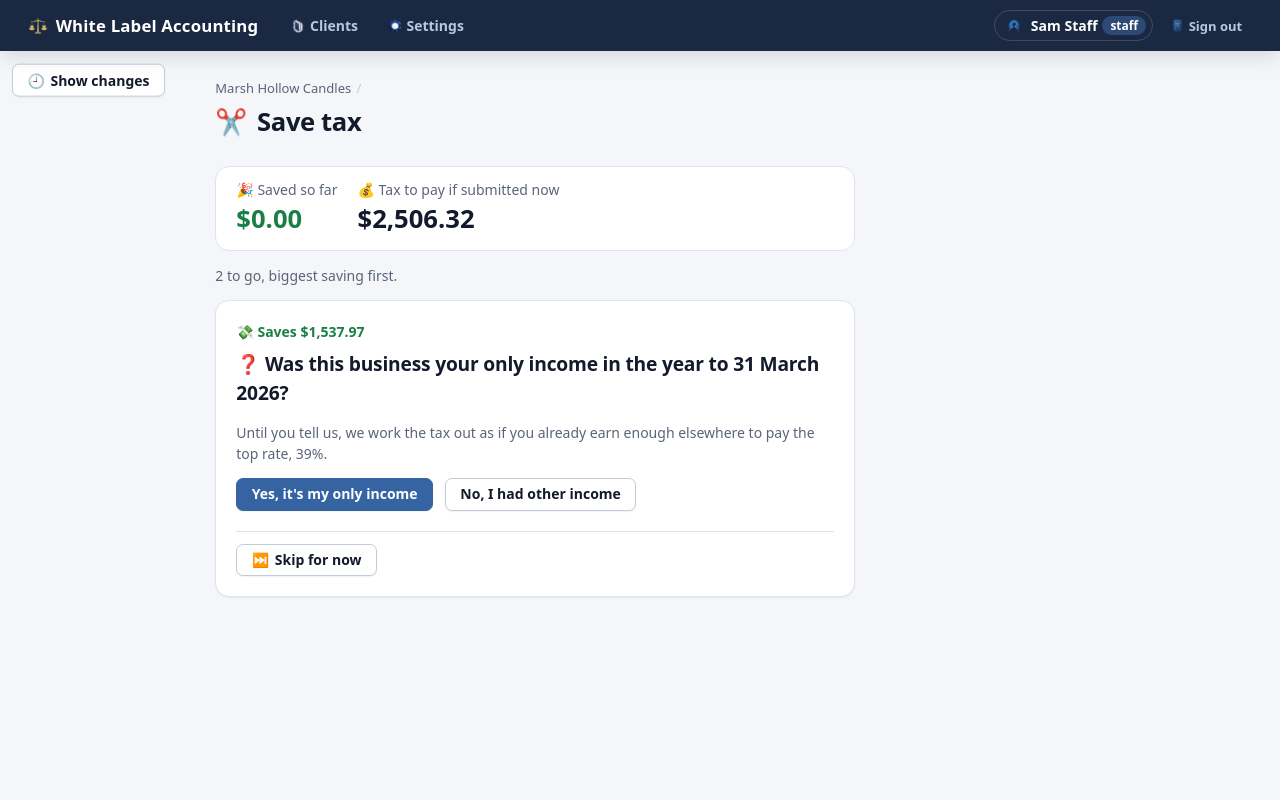
Scenario: save tax › shows one card at a time, biggest saving first, and refetches after each answer
Check: the heading "Was this business your only income in the year to 31 March 2026" is shown, box [236,350,834,408]
Check: the text "Saves $1,537.97" is shown, box [257,322,364,341]
Click the button "Yes, it's my only income": [335, 494] box [236,478,433,510]
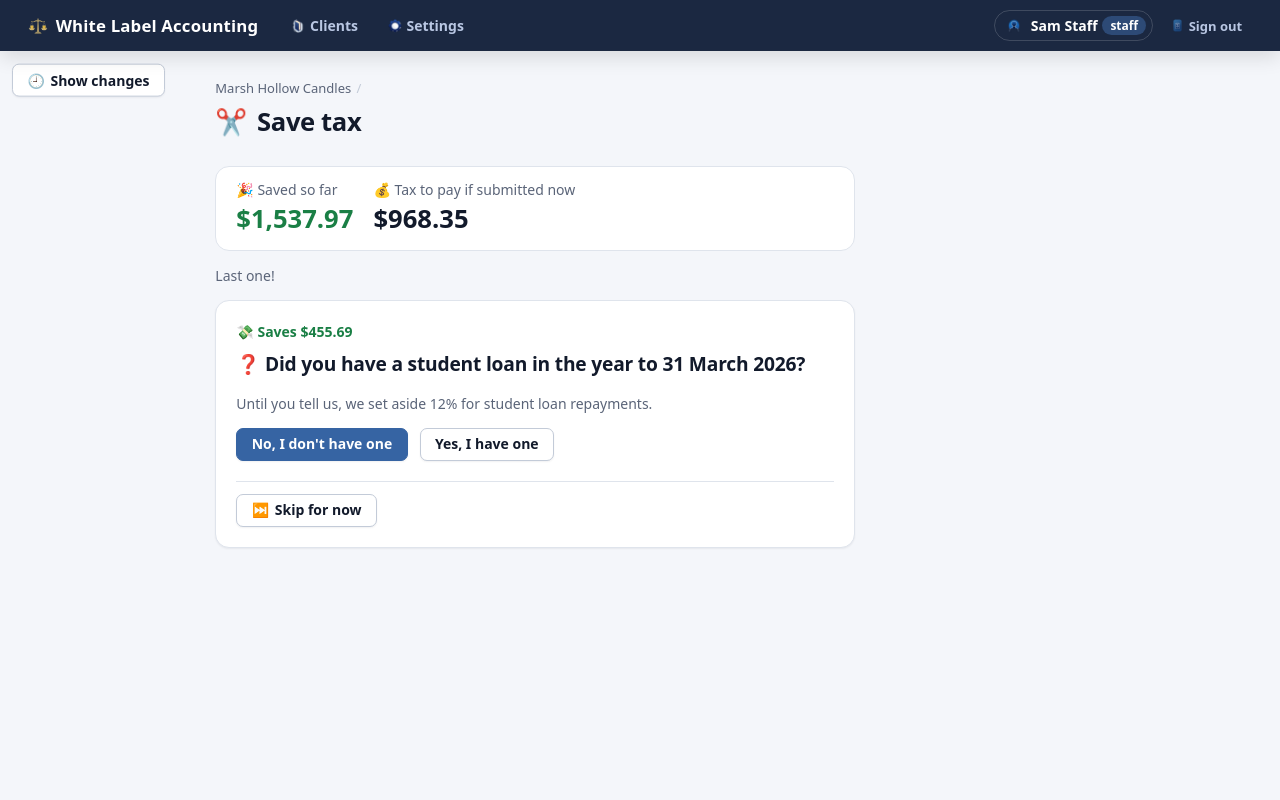
Check: the heading "❓ Did you have a student loan in the year to 31 March 2026?" is shown, box [236,350,834,379]
Check: the text "$1,537.97" is shown, box [236,200,353,238]
